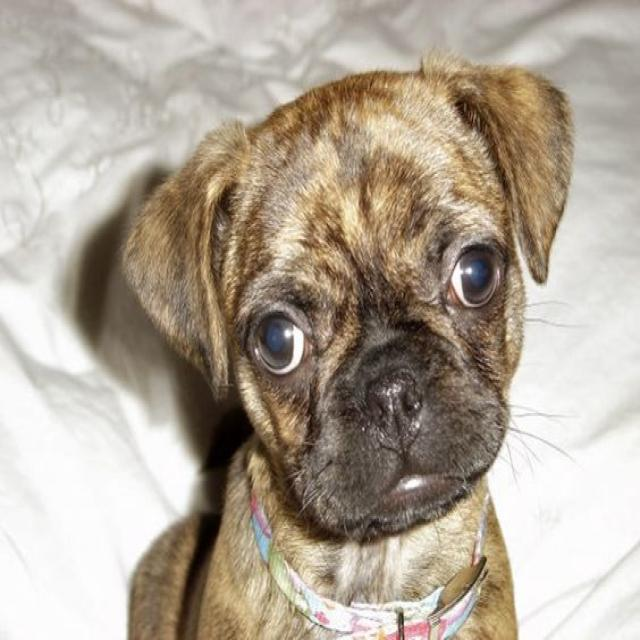dog: (97, 46, 602, 582)
